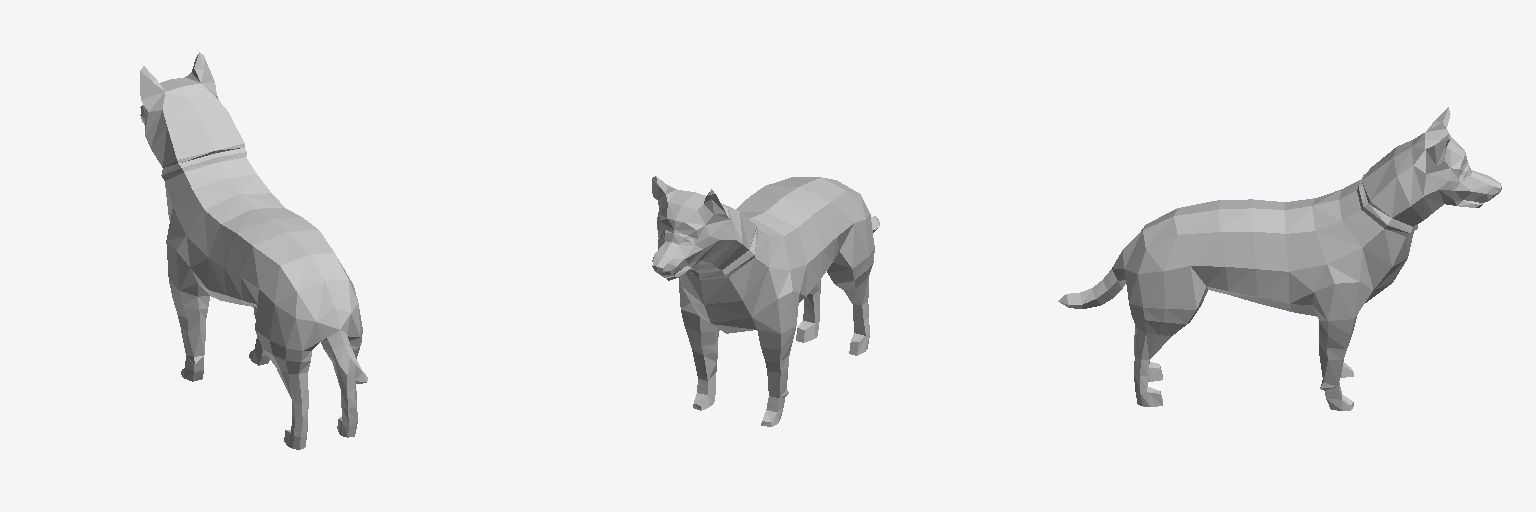
The model's file is hund.obj.
3 renders of one model, left to right at view 1: azimuth 30°, elevation 25°; view 2: azimuth 150°, elevation 25°; view 3: azimuth 270°, elevation 25°, orthographic.
Parts seen in each view (by area): view 1: dog_001; view 2: dog_001; view 3: dog_001.
Boxes of the visible parts, <box> form: dog_001: <box>140,52,367,449</box>; dog_001: <box>652,176,879,426</box>; dog_001: <box>1058,107,1501,410</box>.
Size of the model in its own units: 0.4156 by 1.02 by 1.52.